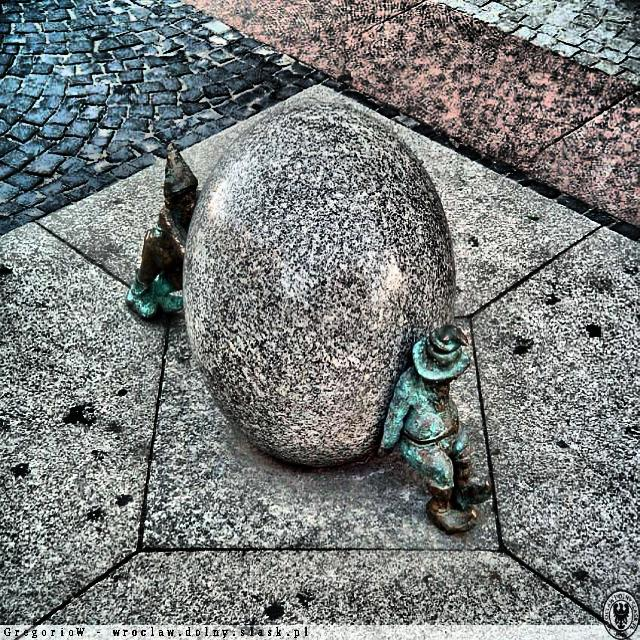Syzyfki: (124, 86, 508, 548)
